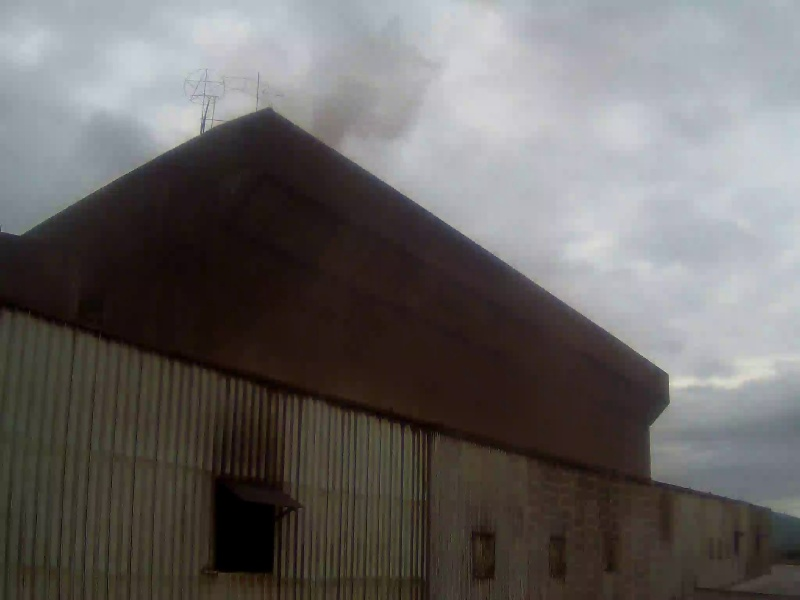bom: (617, 287, 783, 472)
ruim: (260, 37, 679, 478), (7, 25, 282, 186)
